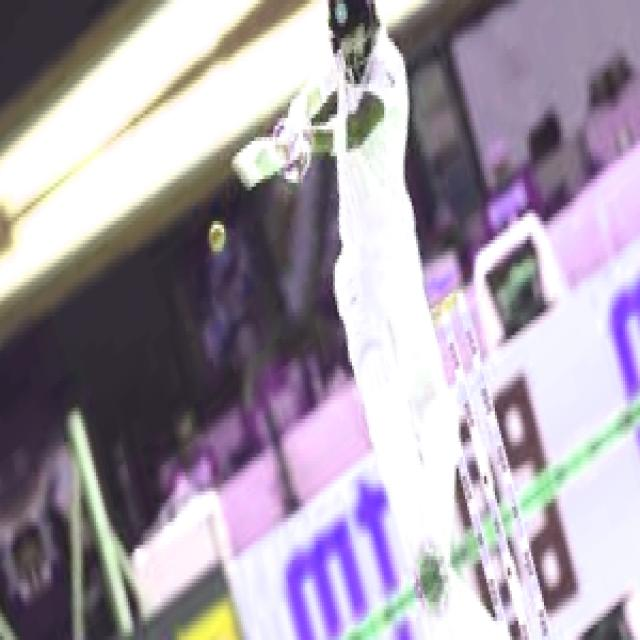toe: (223, 148, 262, 198)
